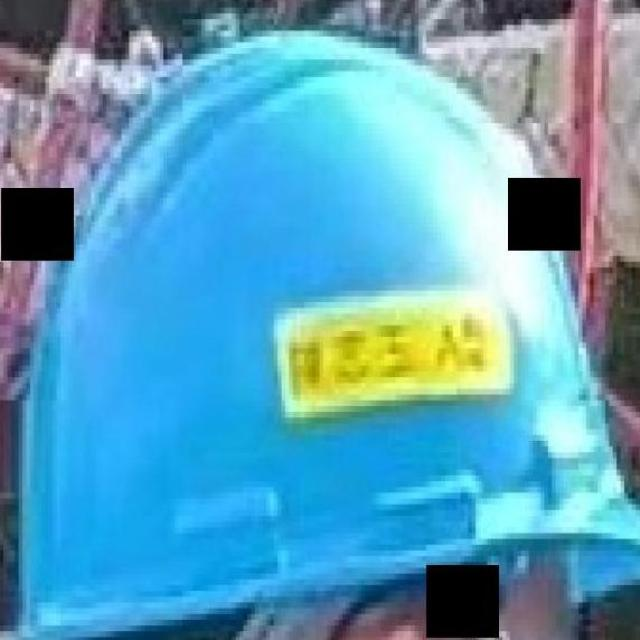blue helmet: (8, 25, 640, 640)
